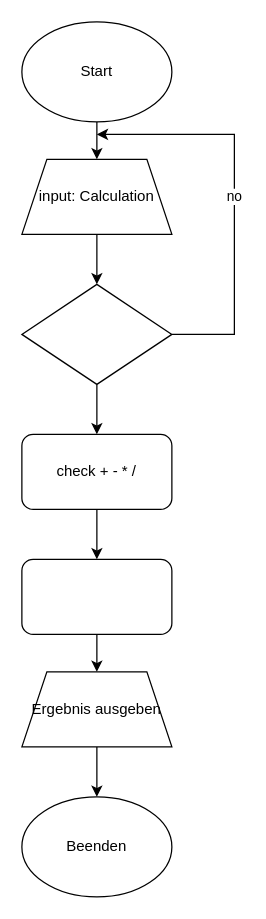
This 266x919 diagram has some shape labels left out. The centre of each missing label's shape, as x and y in pixels:
"entsprechende Operation ausführen" belongs at point 96,596.
"Just numbers and ariths?" belongs at point 96,333.
